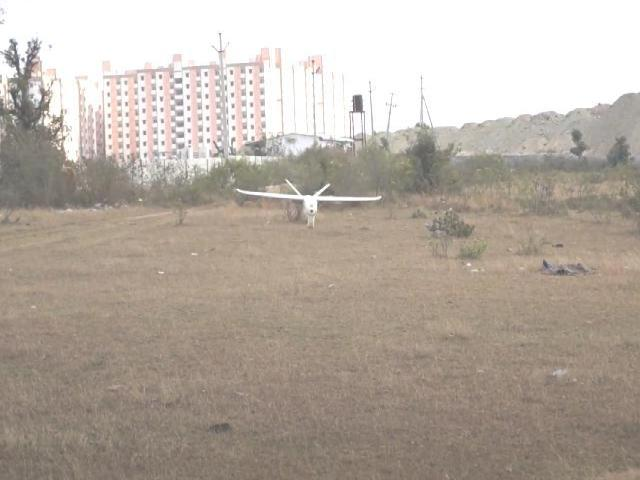iha: (231, 171, 386, 223)
